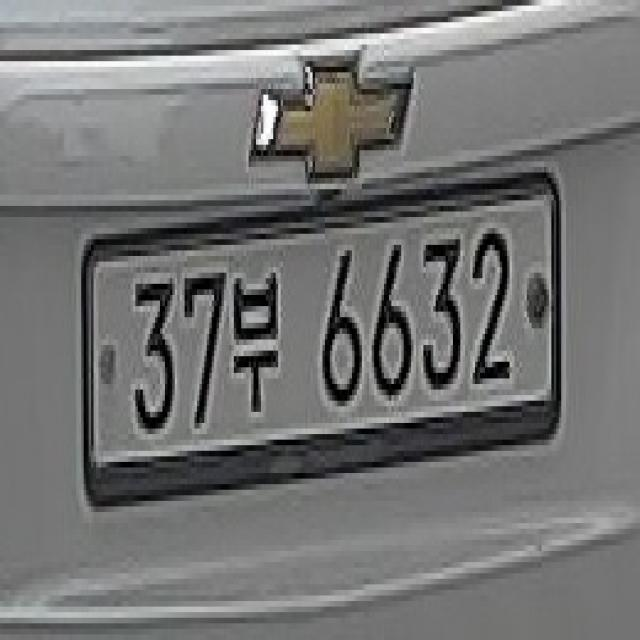2: (468, 222, 512, 390)
3: (133, 273, 177, 434), (421, 233, 463, 389)
6: (315, 245, 364, 412), (369, 239, 414, 401)
7: (182, 262, 227, 434)
bu: (229, 273, 281, 423)
license_plate: (86, 178, 559, 473)
